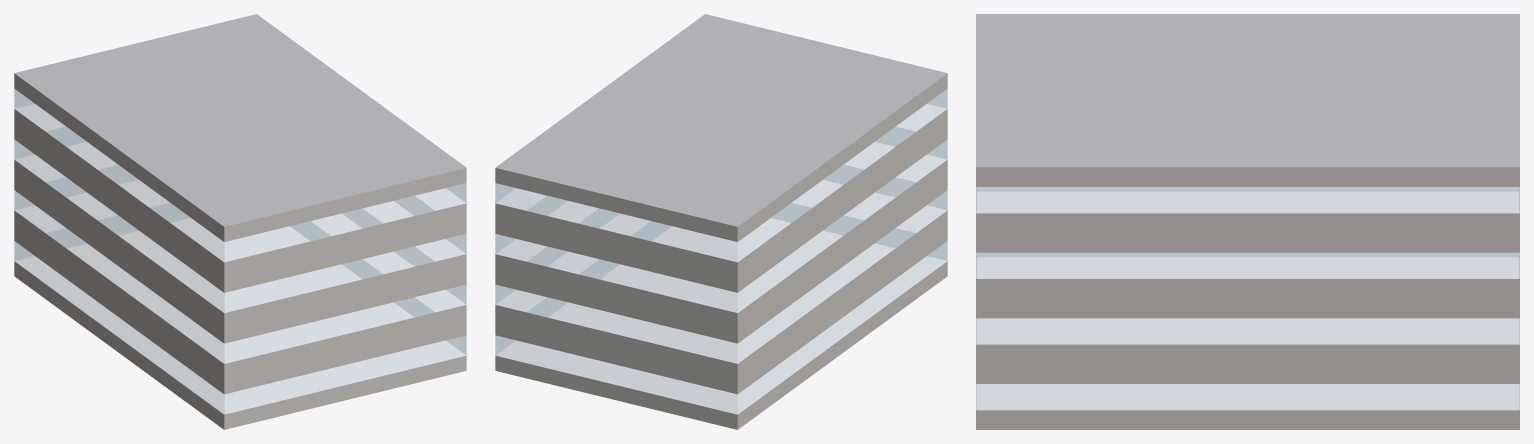
3 renders of one model, left to right at view 1: azimuth 30°, elevation 25°; view 2: azimuth 150°, elevation 25°; view 3: azimuth 270°, elevation 25°, orthographic. The views are drawn at different scales.
Visible parts, largest first — view 1: Dinding Bata, Atap Beton, Kaca Jendela; view 2: Dinding Bata, Atap Beton, Kaca Jendela; view 3: Dinding Bata, Atap Beton, Kaca Jendela.
Part boxes in pixels (x1,y1,x2,y2): Dinding Bata: (14, 73, 466, 429); Atap Beton: (14, 14, 466, 226); Kaca Jendela: (14, 89, 466, 414); Dinding Bata: (495, 73, 947, 429); Atap Beton: (495, 14, 947, 226); Kaca Jendela: (495, 89, 947, 414); Dinding Bata: (976, 167, 1519, 429); Atap Beton: (976, 14, 1519, 167); Kaca Jendela: (976, 187, 1519, 409).
Bounding box in the file's own units: 20 × 16 × 30.
